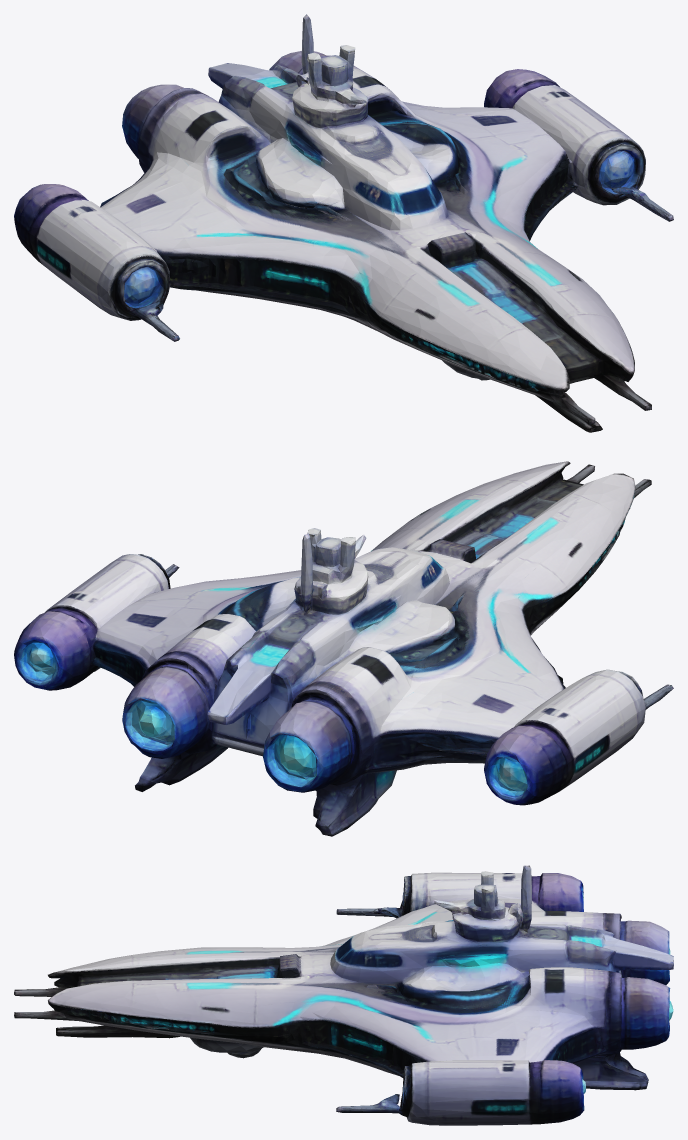
3 renders of one model, top to bottom at view 1: azimuth 30°, elevation 25°; view 2: azimuth 150°, elevation 25°; view 3: azimuth 270°, elevation 25°, orthographic. The views are drawn at different scales.
Visible parts, largest first — view 1: world; view 2: world; view 3: world.
Part boxes in pixels (x1=…): world: x1=14, y1=14, x2=673, y2=432; world: x1=14, y1=461, x2=673, y2=836; world: x1=14, y1=865, x2=673, y2=1125.
Size of the model in its own units: 0.7735 by 0.322 by 1.
Materials: 1 (1 with a texture image).
